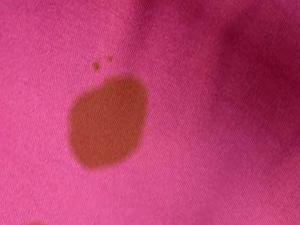stain: (65, 73, 153, 171), (91, 60, 102, 74), (105, 52, 117, 64)
